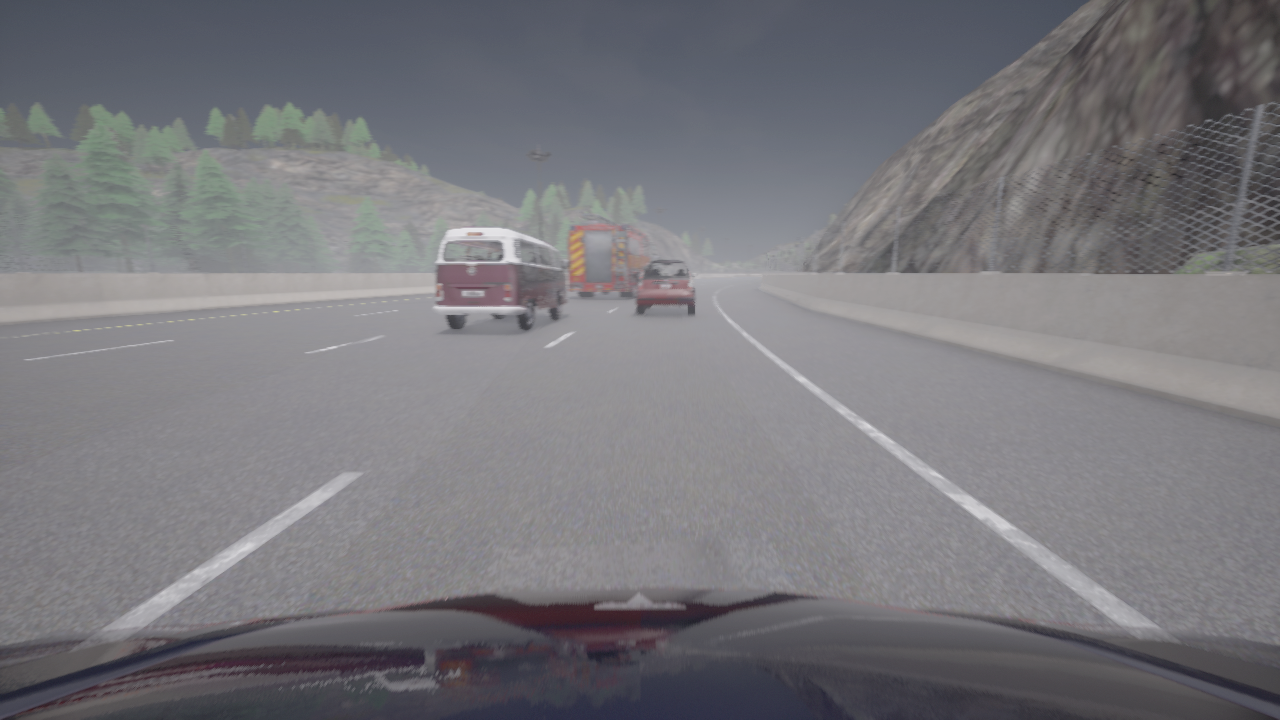cyclist: (0, 588, 1279, 719), (433, 227, 568, 330), (568, 214, 655, 298), (636, 259, 697, 315), (651, 253, 658, 260)
